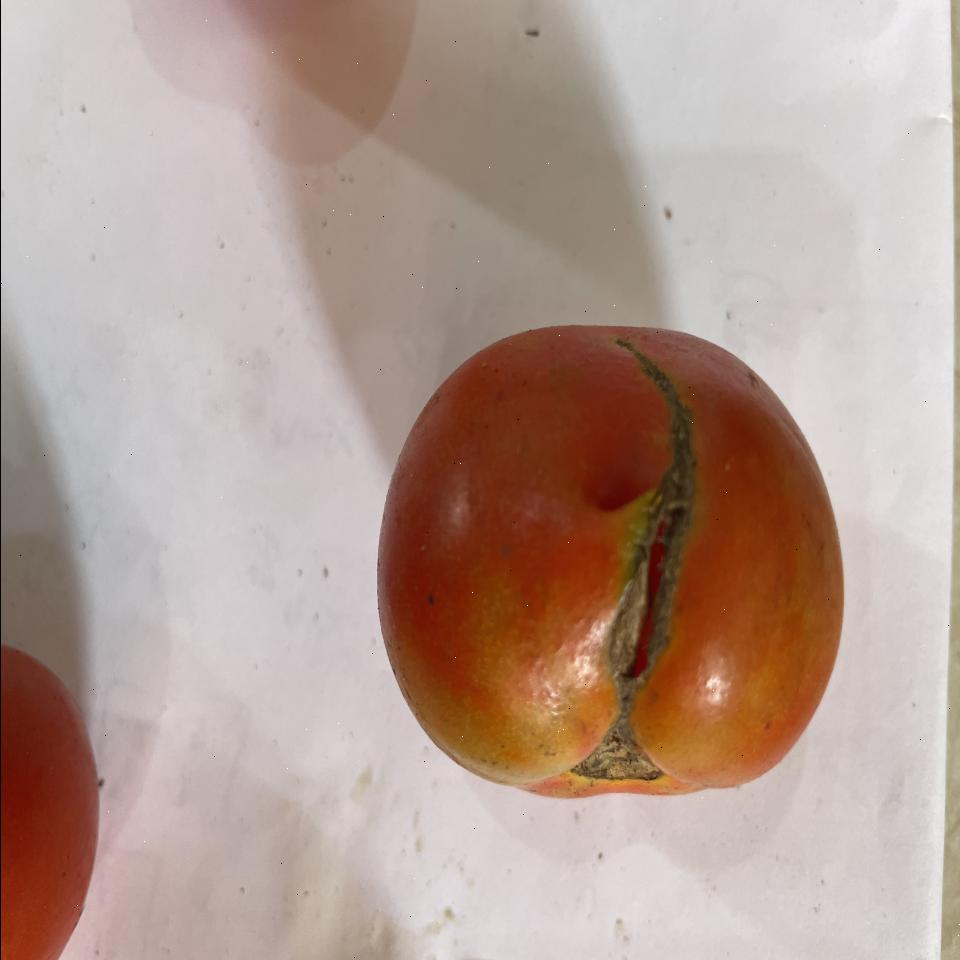Cracking: (595, 332, 702, 740)
